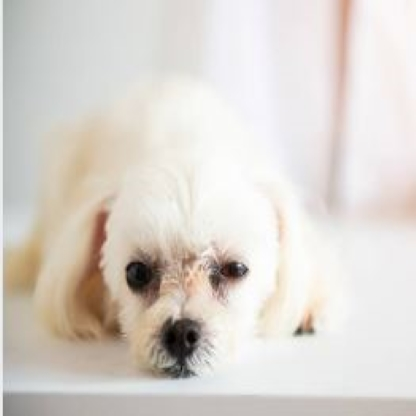maltese: (40, 83, 326, 380)
